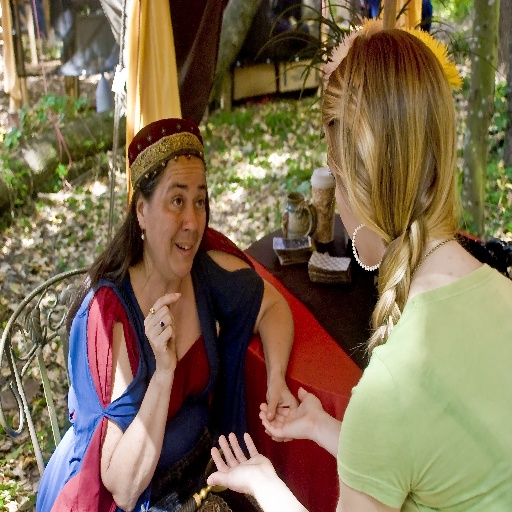hand: (203, 439, 280, 503), (258, 385, 324, 439), (141, 290, 182, 374), (263, 375, 299, 437)
